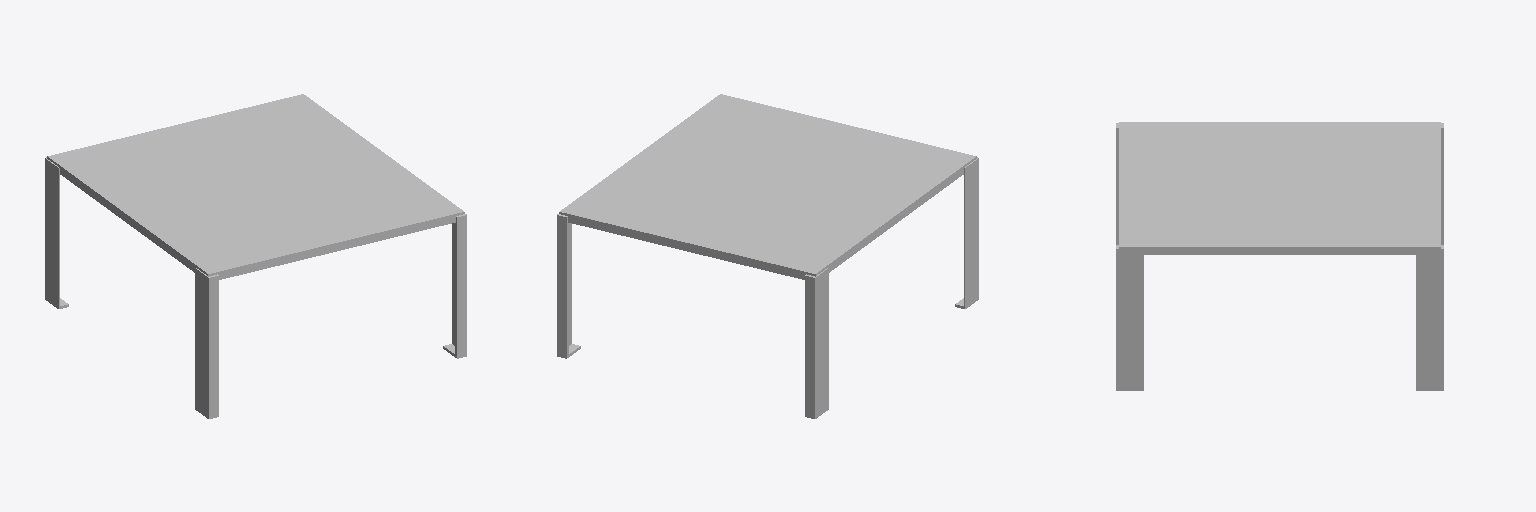
File: ShipScene_7.obj
3 renders of one model, left to right at view 1: azimuth 30°, elevation 25°; view 2: azimuth 150°, elevation 25°; view 3: azimuth 270°, elevation 25°, orthographic.
Bounding box in the file's own units: 40.76 × 21.69 × 44.82.